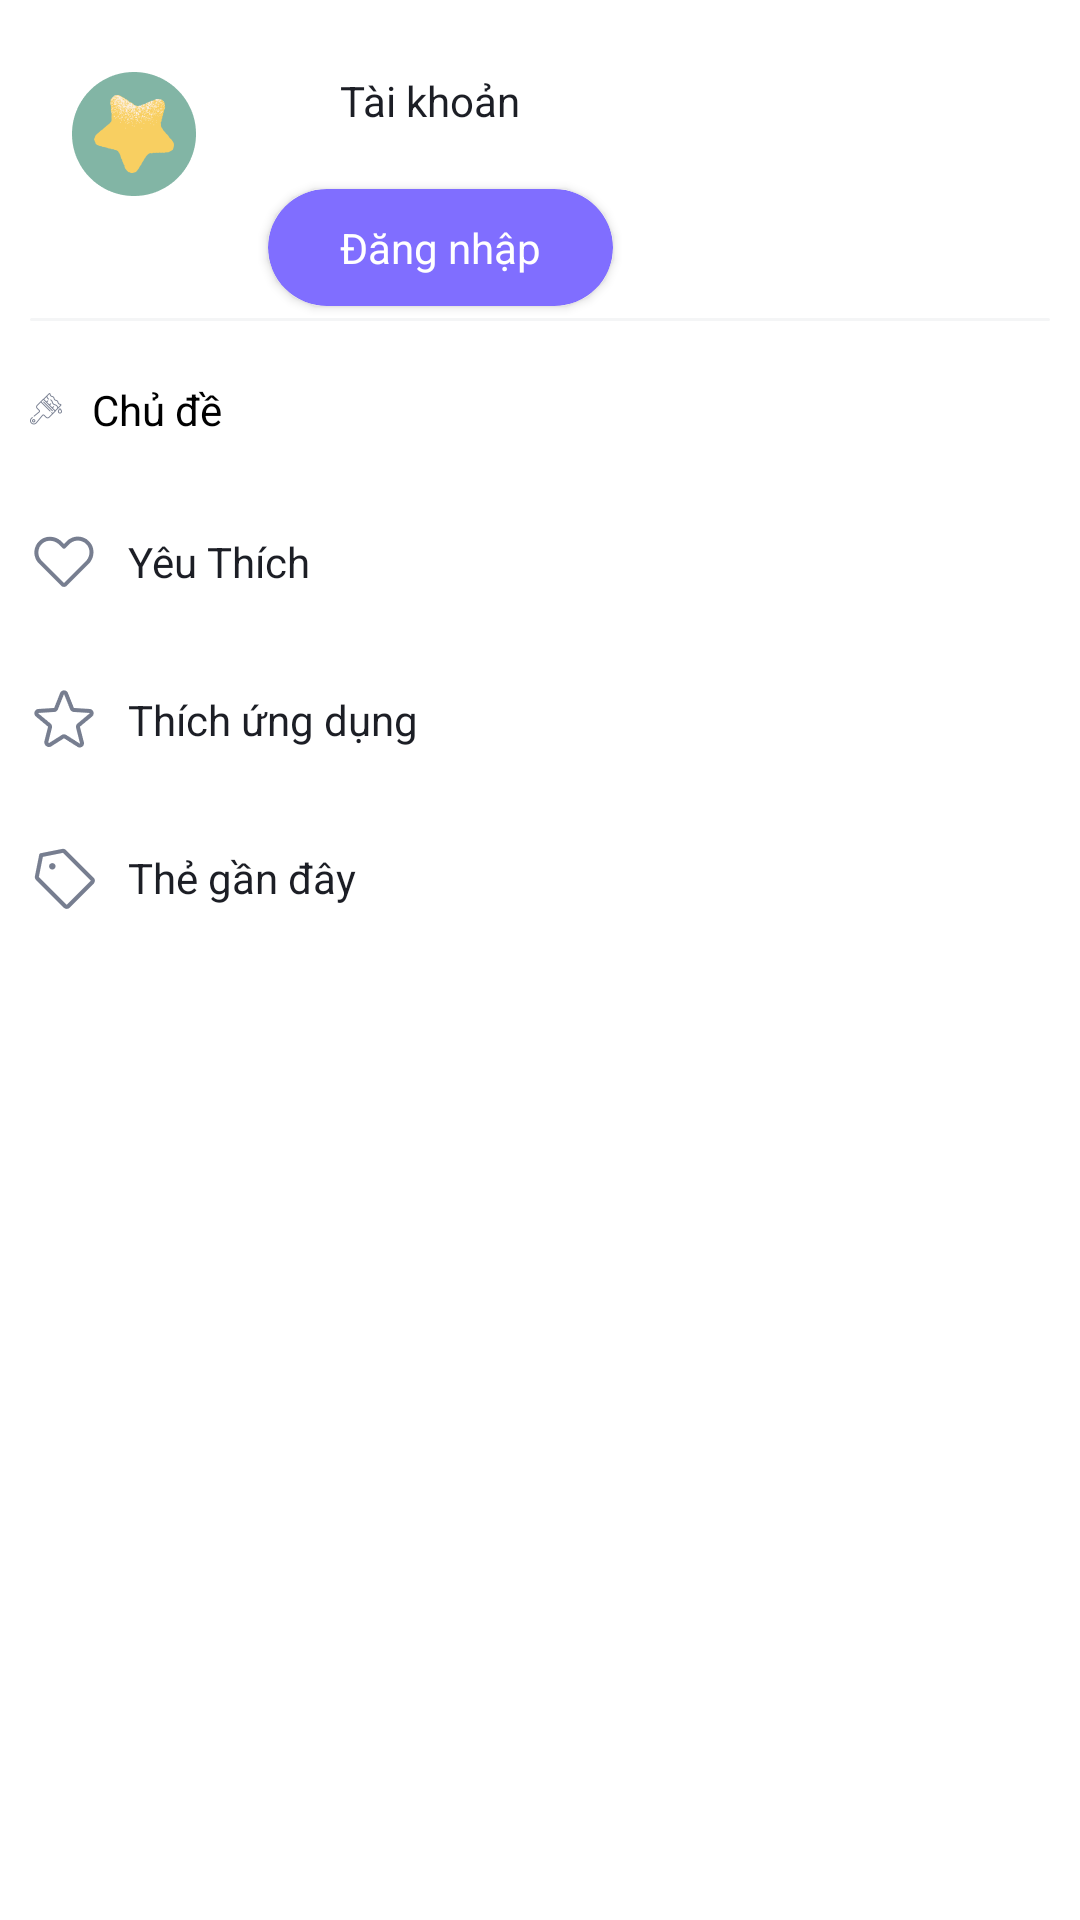

Named icons in this screenshot (1080x1920) and their bounding boxes, (x1, y1, x2, y2):
heart: (34, 536, 94, 587)
rate: (34, 690, 94, 748)
tag: (35, 849, 95, 909)
theme: (30, 393, 62, 425)
